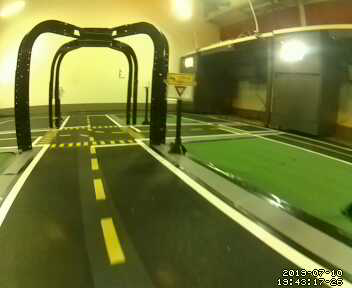Turn Yield: (166, 73, 194, 101)
